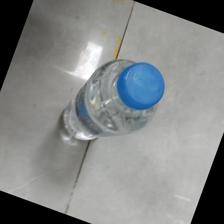Lavie: (63, 58, 166, 143)
